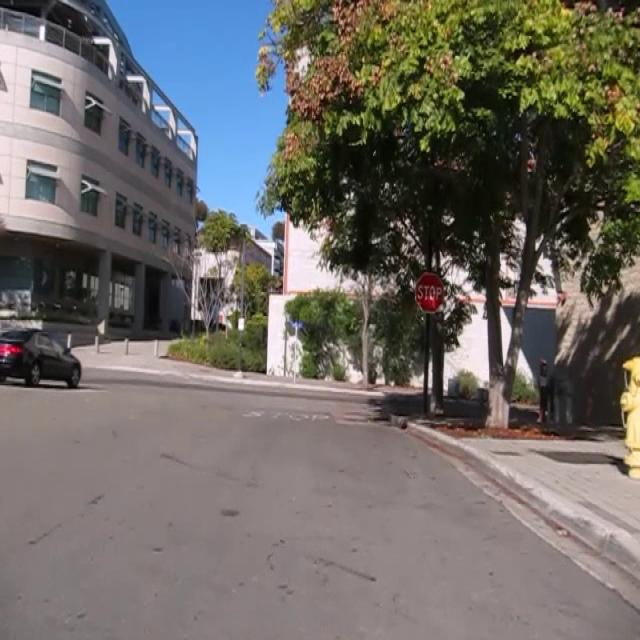stop: (413, 271, 444, 313)
